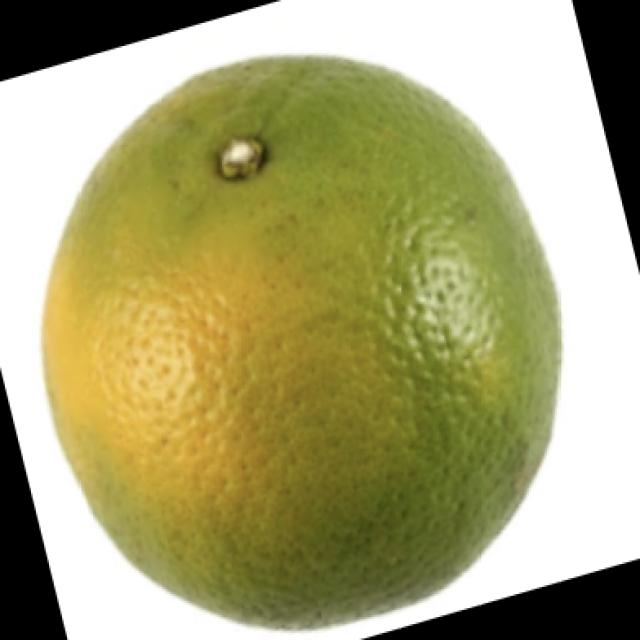fresh: (16, 58, 570, 634)
